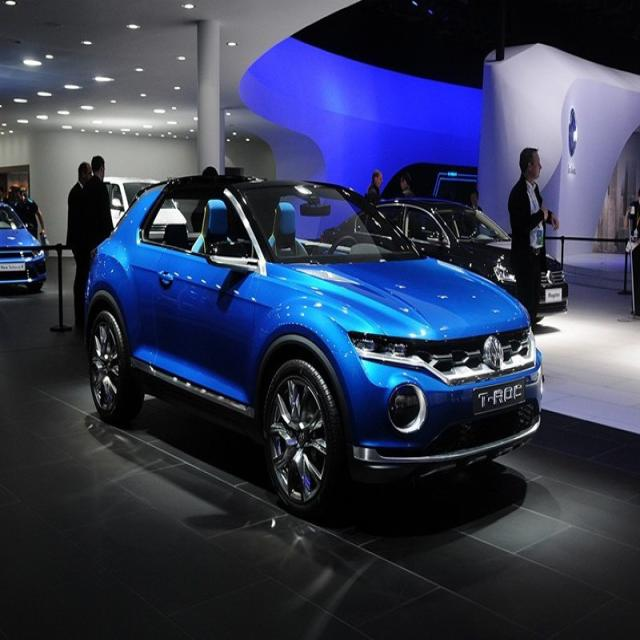front_bumper: (334, 355, 545, 474)
front_glass: (230, 183, 418, 261)
front_right_side_door: (150, 239, 263, 410)
front_right_side_light: (348, 325, 418, 365)
front_right_side_mirror: (206, 236, 258, 278)
wheel: (264, 359, 338, 515), (88, 307, 144, 422)
